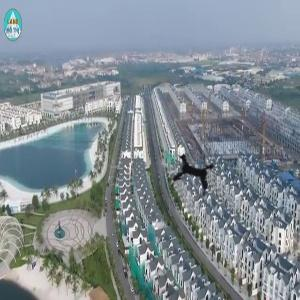drone: (151, 129, 243, 221)
